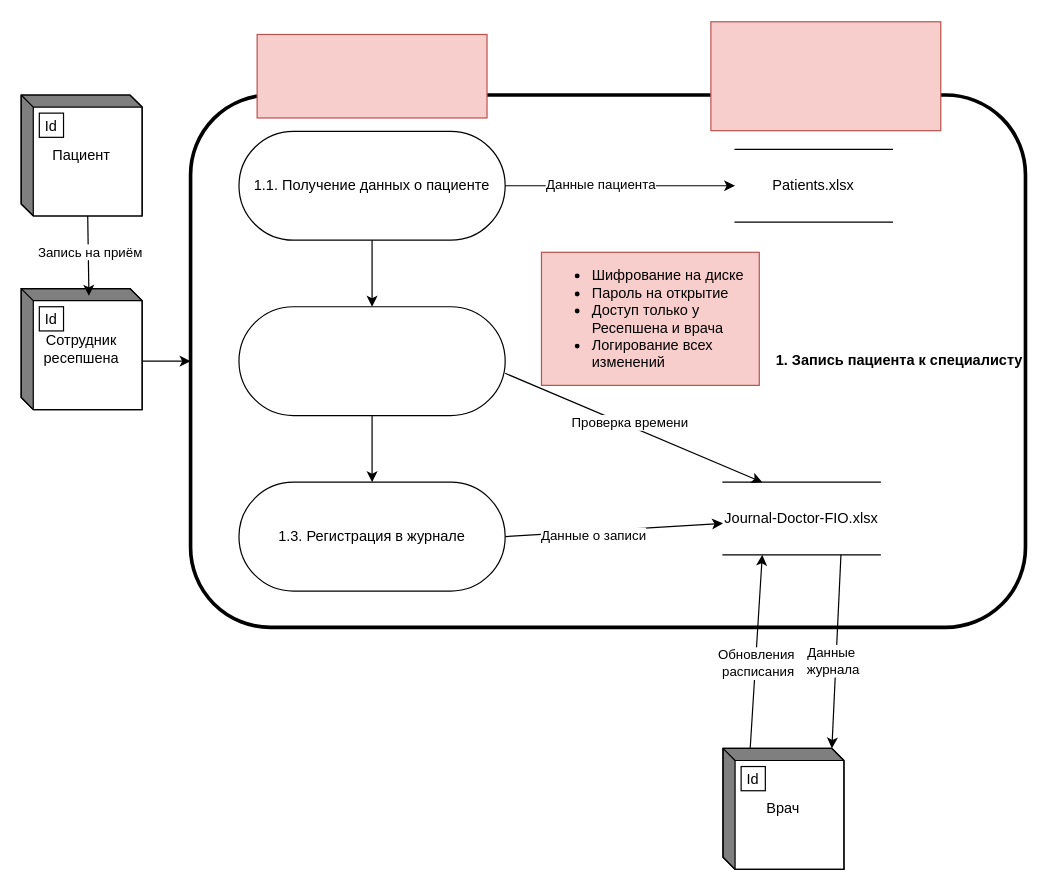
Some shapes in this 1048 by 891 pixel diagram are drawn without their labels. Each missing label, with the centre of its shape:
"1.2. Проверка расписания" goes at point 371,361.
"Передача по защищенному каналу Журналирование запроса" goes at point 371,75.
"Шифрование файла Парольная защита Логирование записи" goes at point 825,76.
